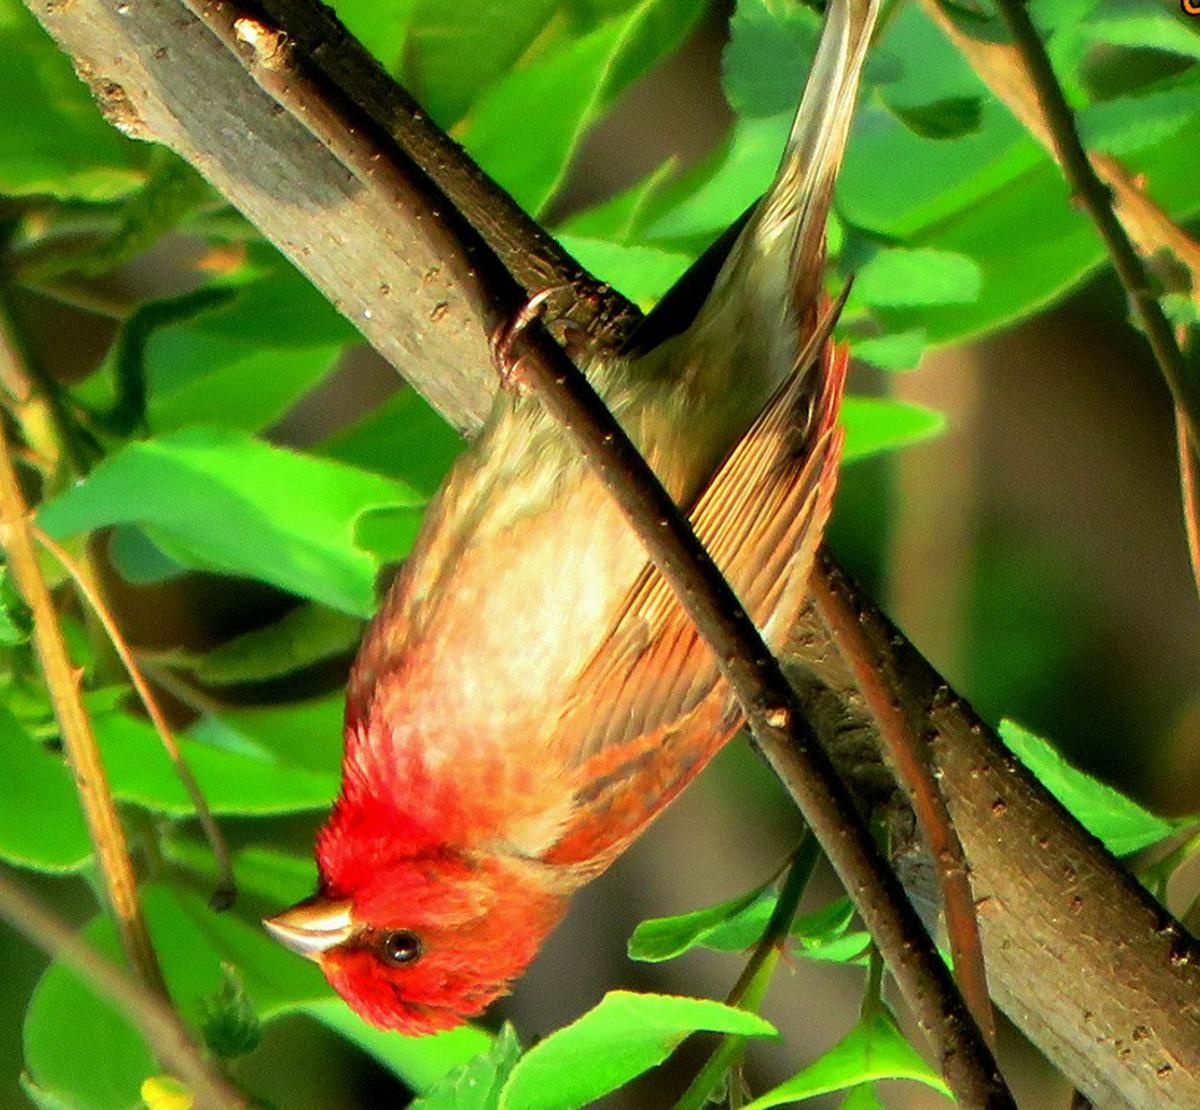rosefinch: (267, 175, 927, 1031)
